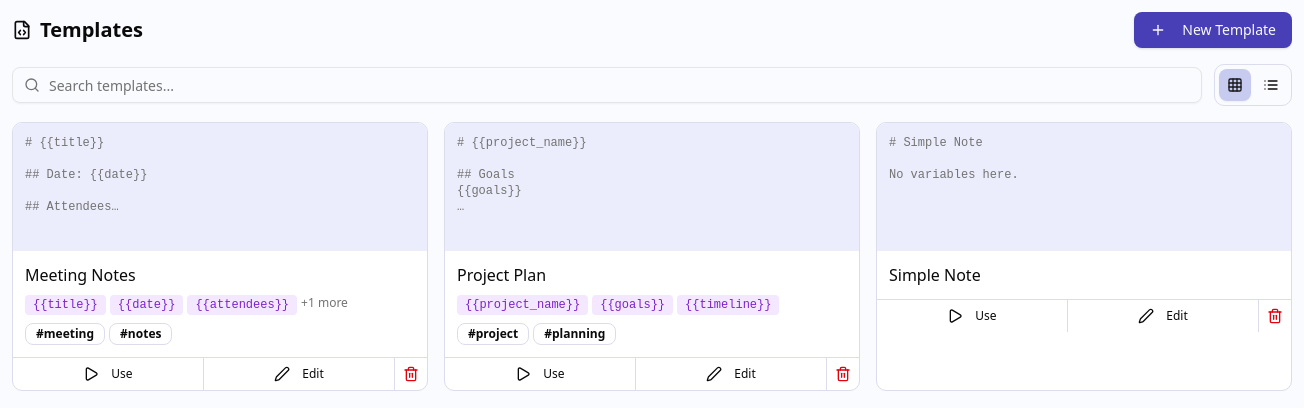
Scenario: TemplateManager › Search › should filter templates by search query
Check: the heading "Meeting Notes" is shown, box [25, 264, 136, 286]
Type "project" into the search field with placeholder "Search templates..." at (607, 85), box [12, 67, 1202, 103]
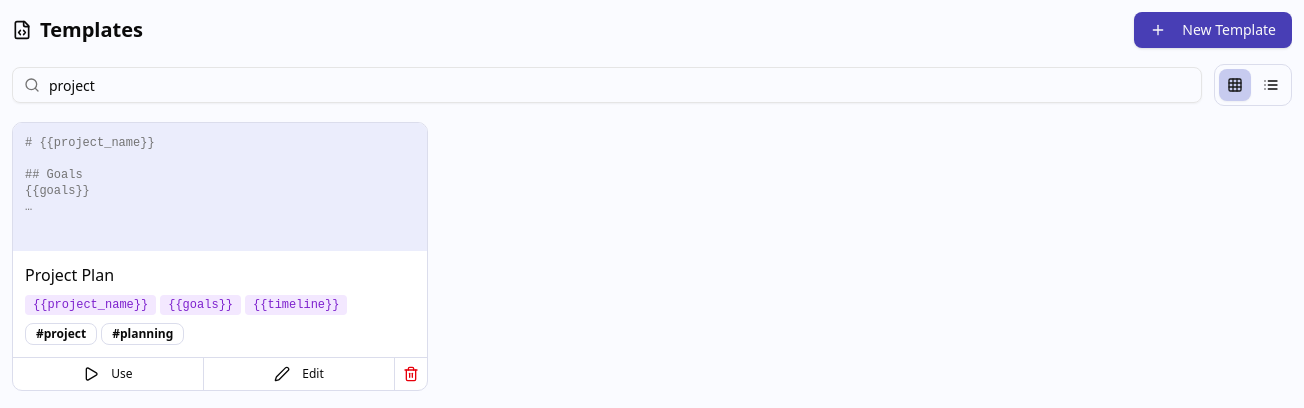
Check: the heading "Project Plan" is shown, box [25, 264, 114, 286]
Check: the heading "Meeting Notes" is gone
